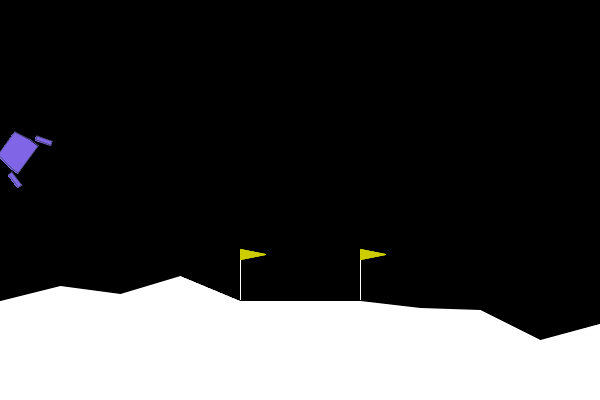lander: (0, 118, 54, 190)
